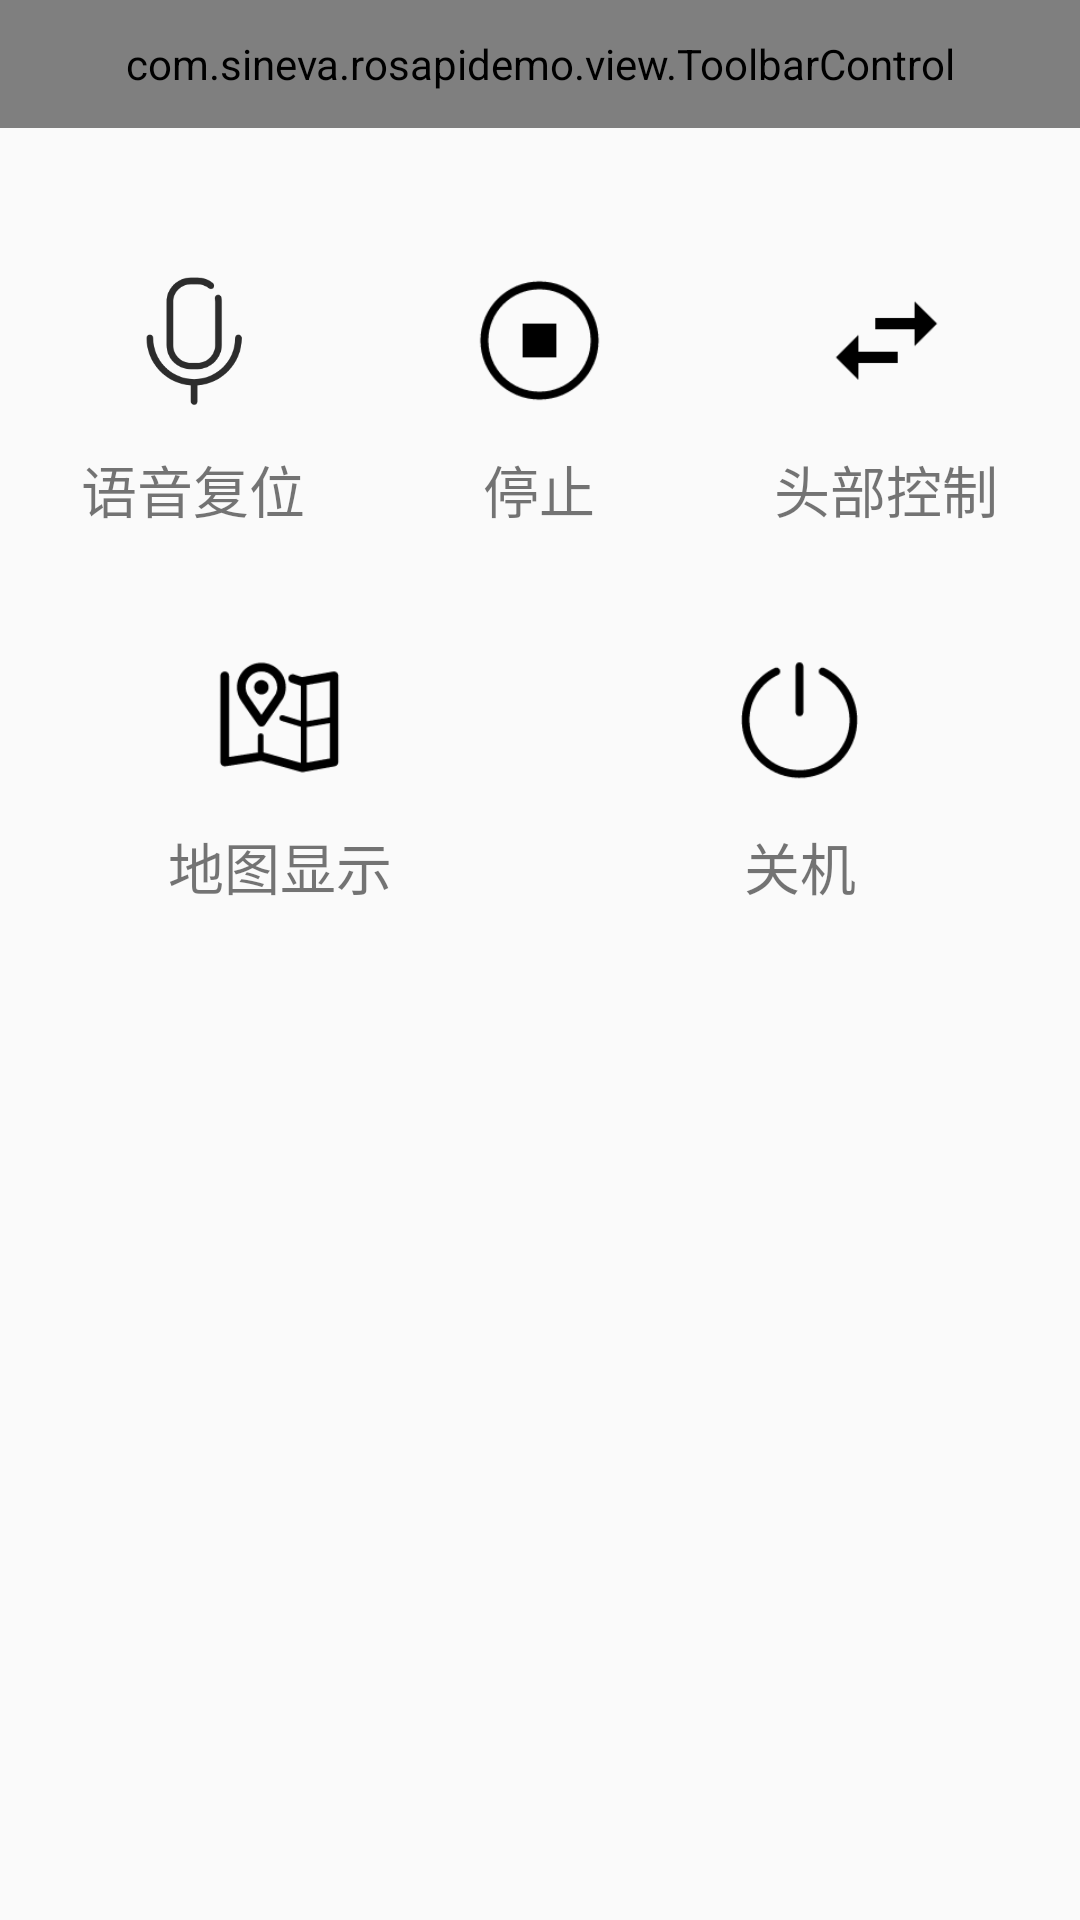

Screen size 1080*1920. Icon name, then its center in pixels as point (x, y):
map: point (279, 717)
shutdown: point (799, 720)
stop: point (539, 340)
